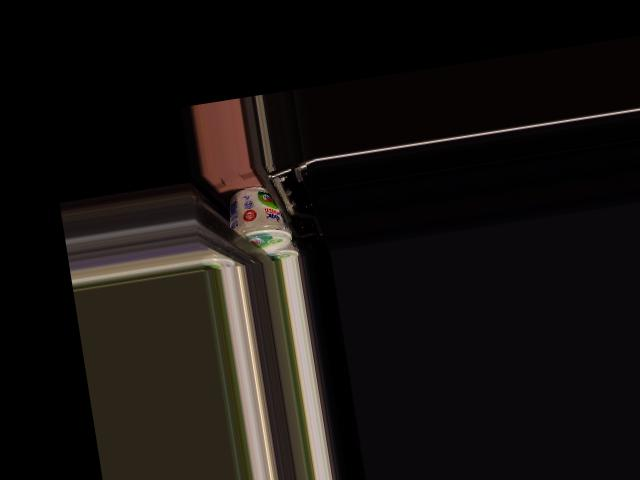cotage: (223, 184, 289, 258)
